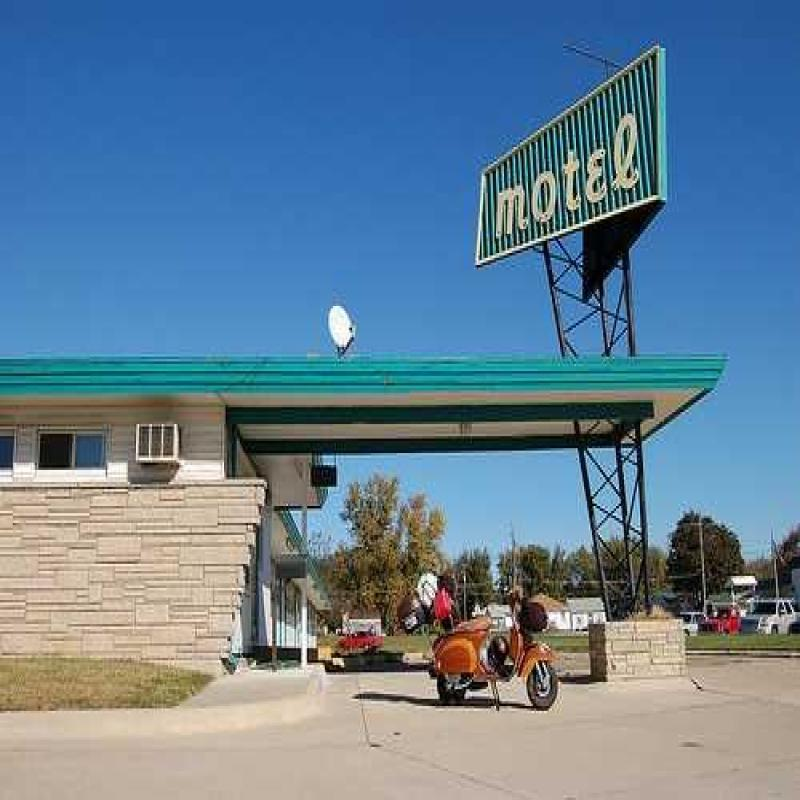bike: (421, 579, 556, 718)
